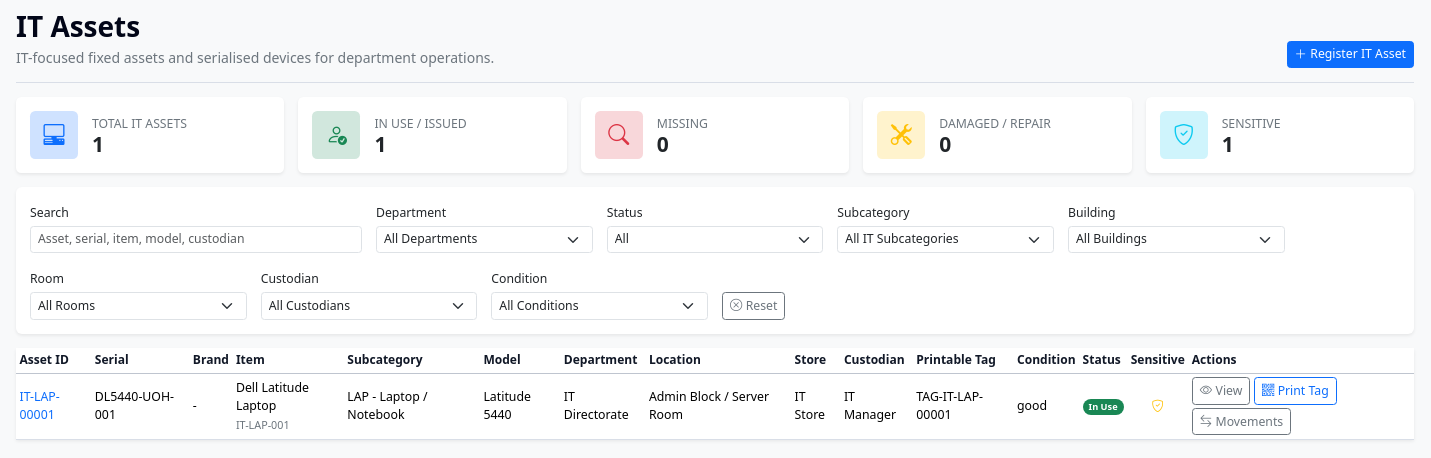
Test: ItAssetsPage › sends report filters and applies local subcategory and condition filters
Expected: the link "IT-LAP-00001" is shown, [20,388,60,423]
Select "ITD - IT Directorate" in the dropdown named "Department" at (484, 240), box [376,226,593,253]
Select "In Use" in the dropdown named "Status" at (715, 240), box [607,226,823,253]
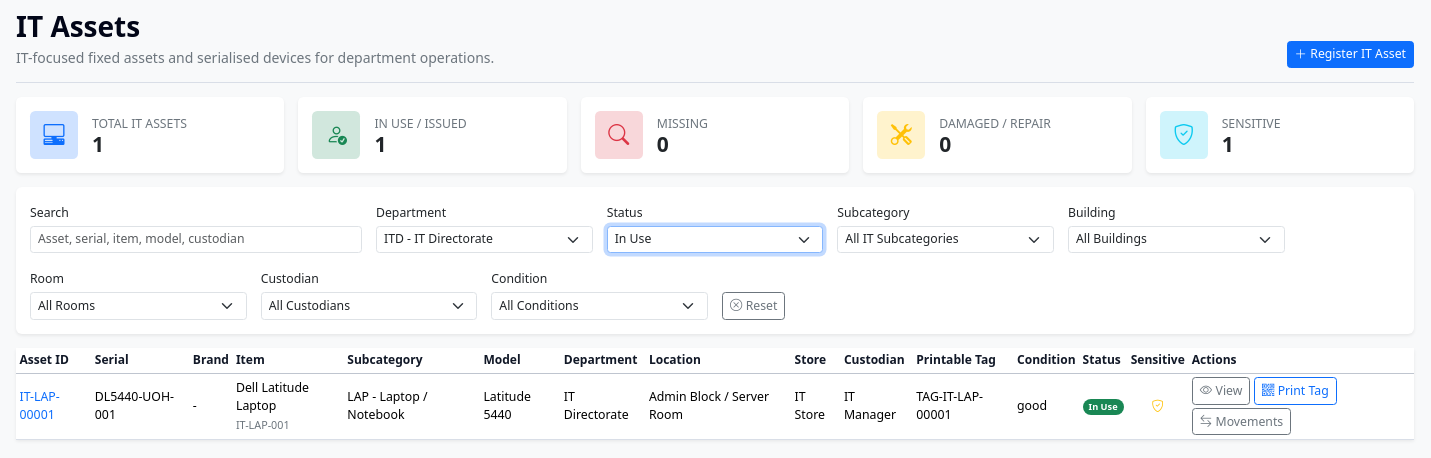
Select "ADM - Admin Block" in the dropdown named "Building" at (1176, 240), box [1068,226,1285,253]
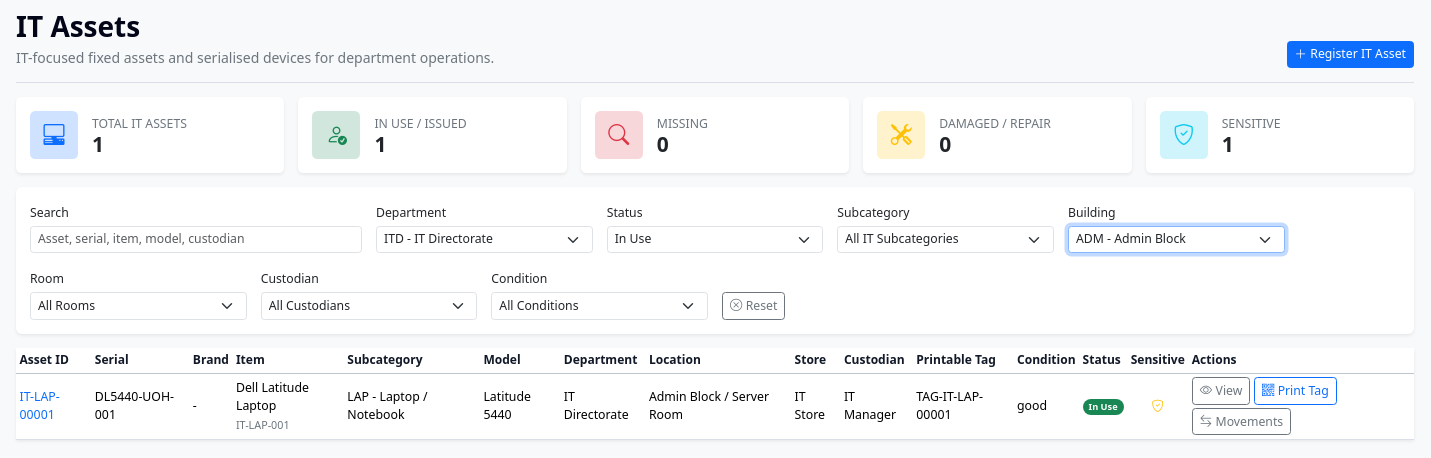
Select "SRV - Server Room" in the dropdown named "Room" at (138, 306), box [30,292,247,320]
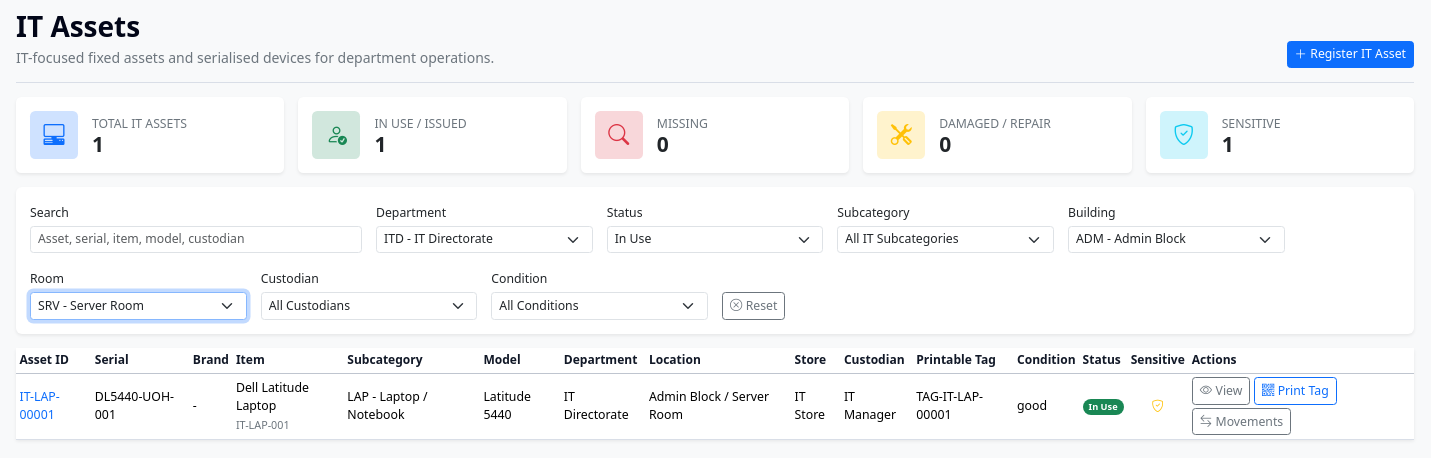
Select "IT Manager" in the dropdown named "Custodian" at (369, 306), box [261,292,477,320]
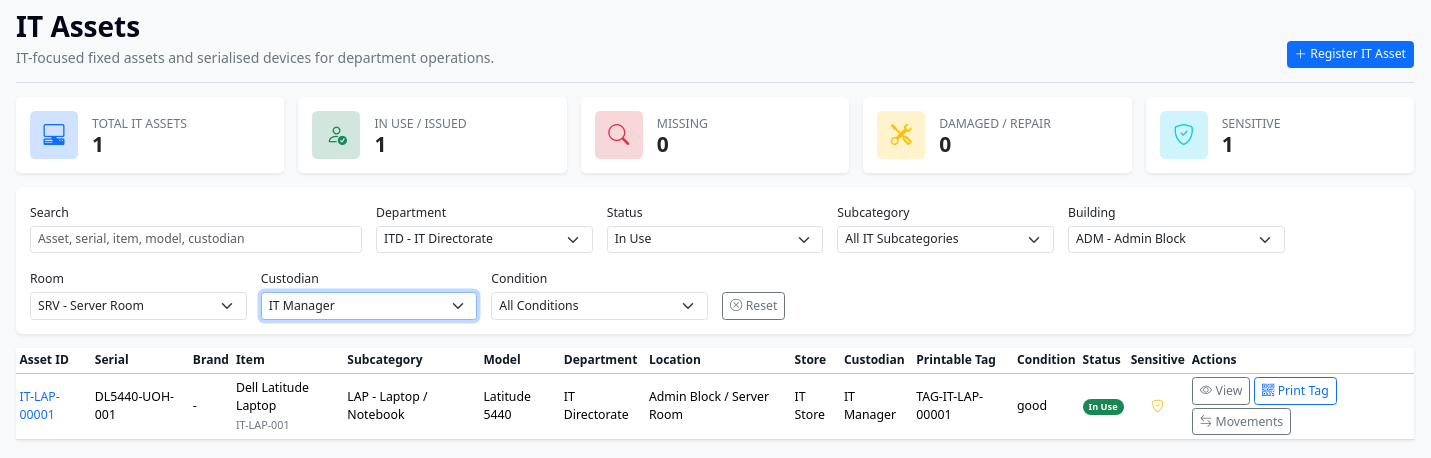
Select "LAP - Laptop / Notebook" in the dropdown named "Subcategory" at (946, 240), box [837,226,1054,253]
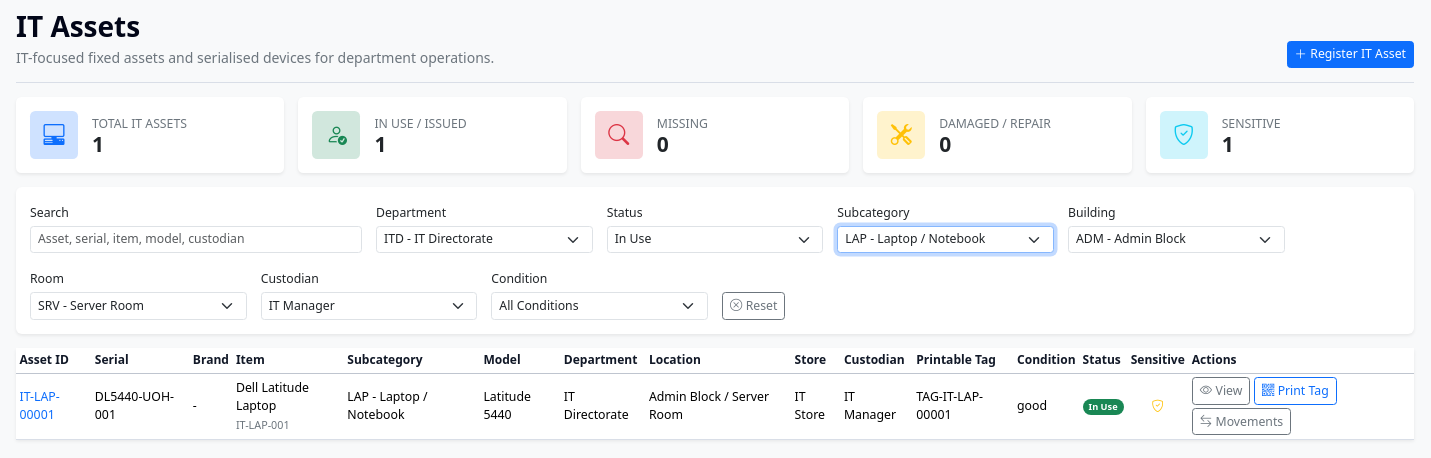
Select "Damaged" in the dropdown named "Condition" at (600, 306), box [491,292,708,320]
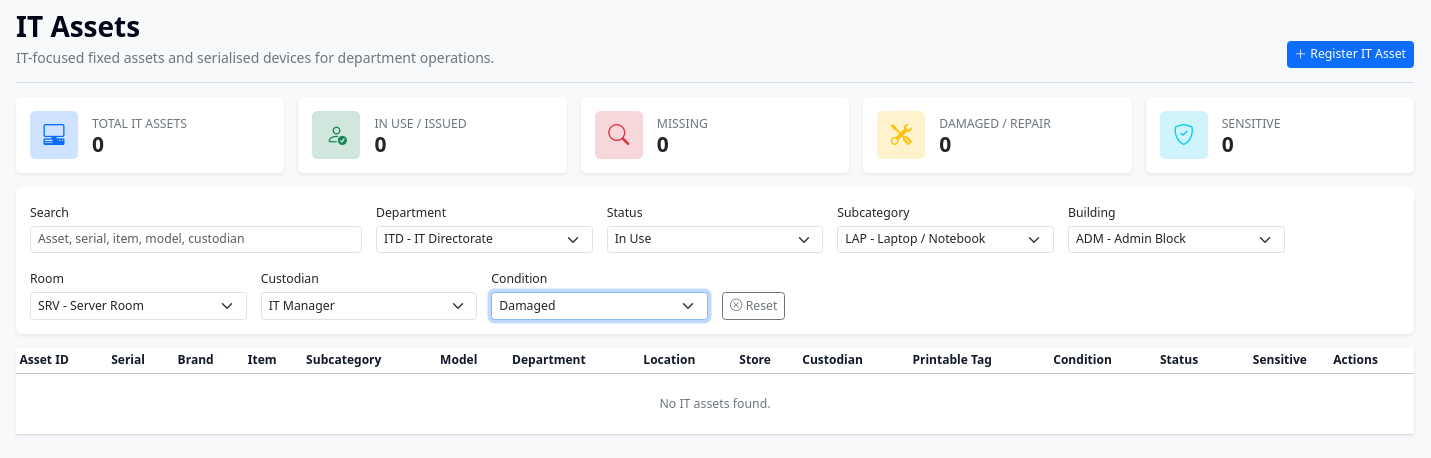
Result: the link "IT-LAP-00001" is gone
Result: the text "No IT assets found." is shown at [16,373,1414,435]
